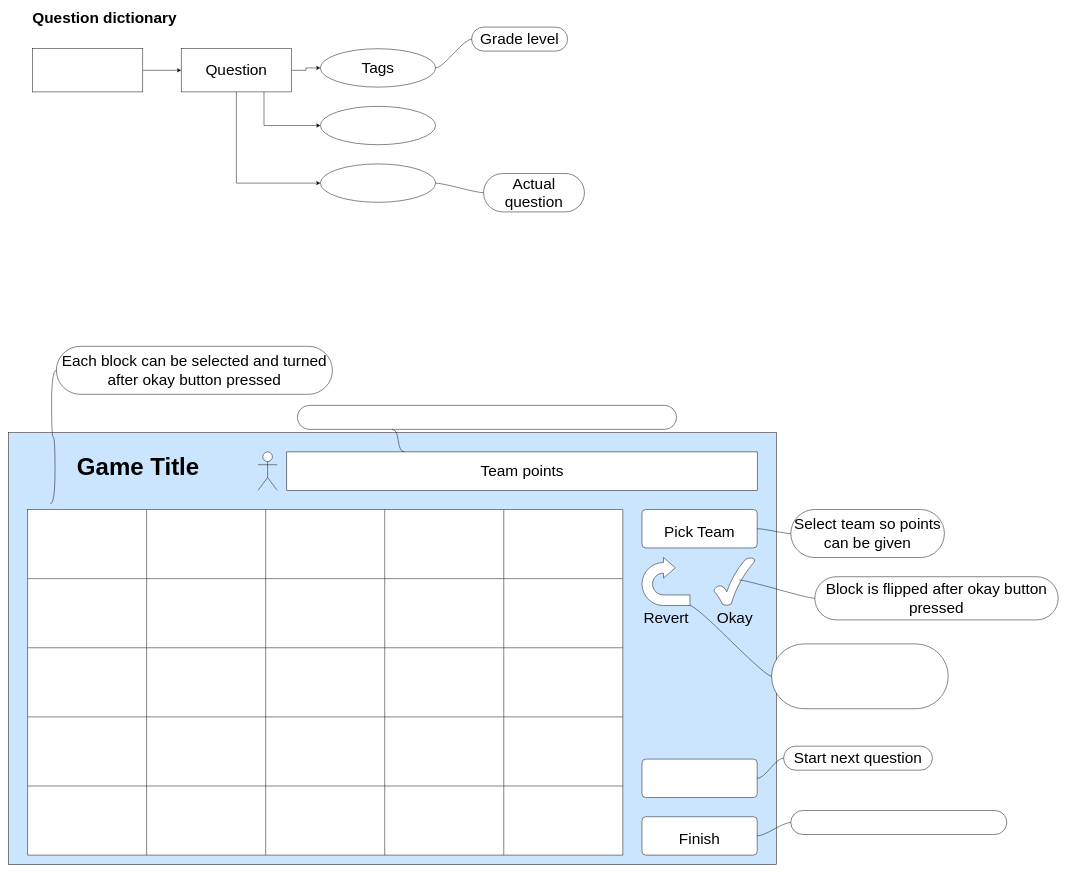
This 1067x873 diagram has some shape labels left out. The shapes that lost their labels are listed below. From the top down, each one's centre as x and y in pixels, then its label:
point (87, 70): Topic
point (378, 125): Picture ref.
point (378, 182): Text
point (487, 417): Mutiple coloured progress bars for each team
point (859, 676): In case wrong team is given points, revert points and card
point (699, 778): Next Question
point (898, 822): Start end game sequence
